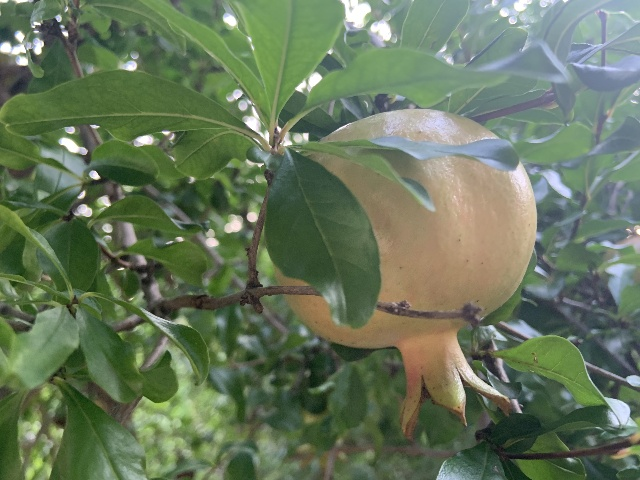mid-growth: (270, 108, 536, 439)
